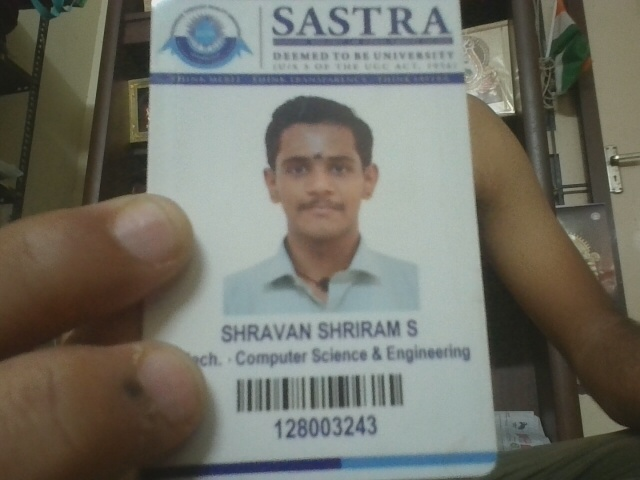fake: (261, 122, 376, 237)
